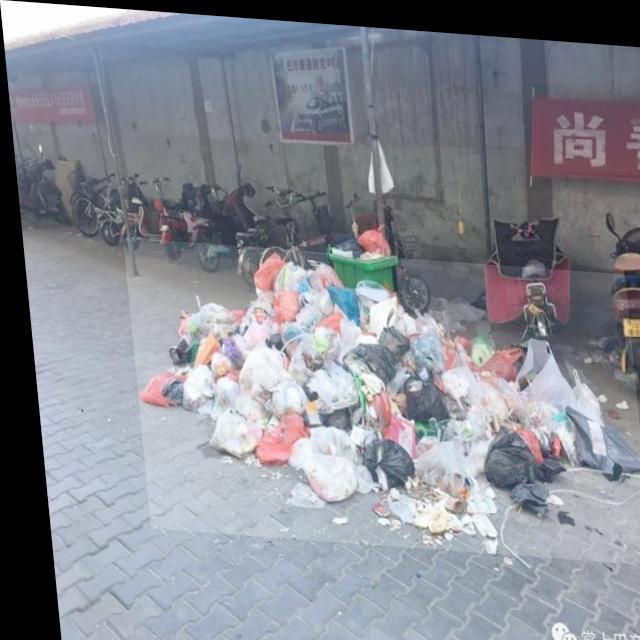garbage: (119, 236, 640, 556)
overflow: (321, 214, 393, 286)
